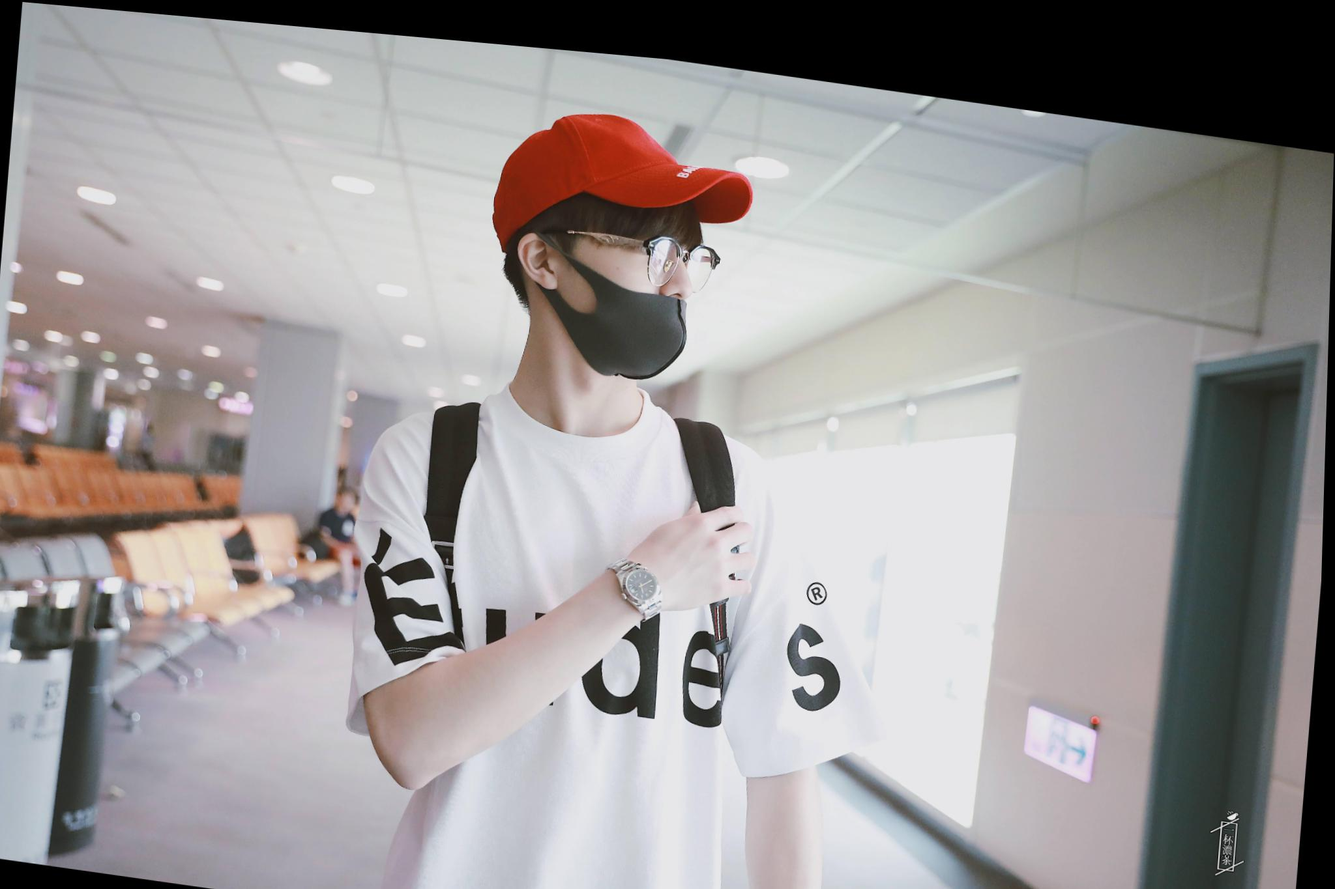WRONG: (565, 195, 701, 381)
